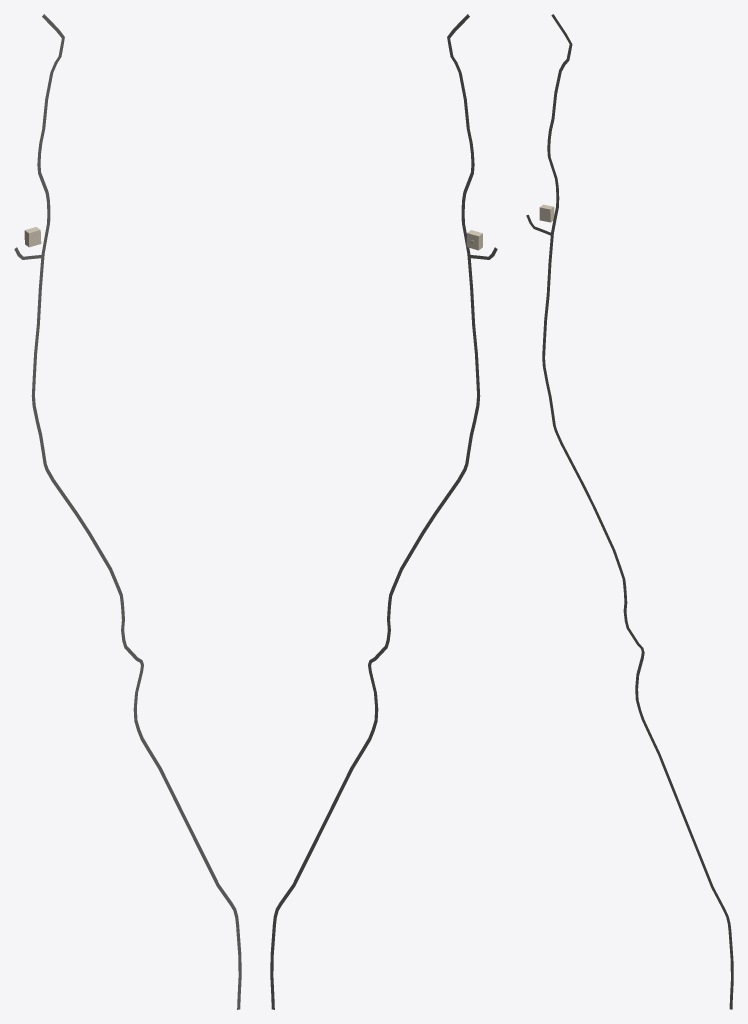
The model's file is amman_3575_3189.glb.
The picture shows the model from 3 angles, left to right: view 1: azimuth 30°, elevation 25°; view 2: azimuth 150°, elevation 25°; view 3: azimuth 330°, elevation 25°; orthographic projection. The views are drawn at different scales.
Parts seen in each view (by area): view 1: Road, Road .002; view 2: Road, Road .002; view 3: Road, Road .002.
Boxes of the visible parts, x1=… form: Road: x1=31, y1=256, x2=241, y2=1009; Road .002: x1=37, y1=14, x2=64, y2=256; Road: x1=270, y1=256, x2=480, y2=1009; Road .002: x1=447, y1=14, x2=474, y2=256; Road: x1=542, y1=234, x2=733, y2=1009; Road .002: x1=547, y1=14, x2=572, y2=234.
Size of the model in its own units: 232 by 1015 by 8.7.
